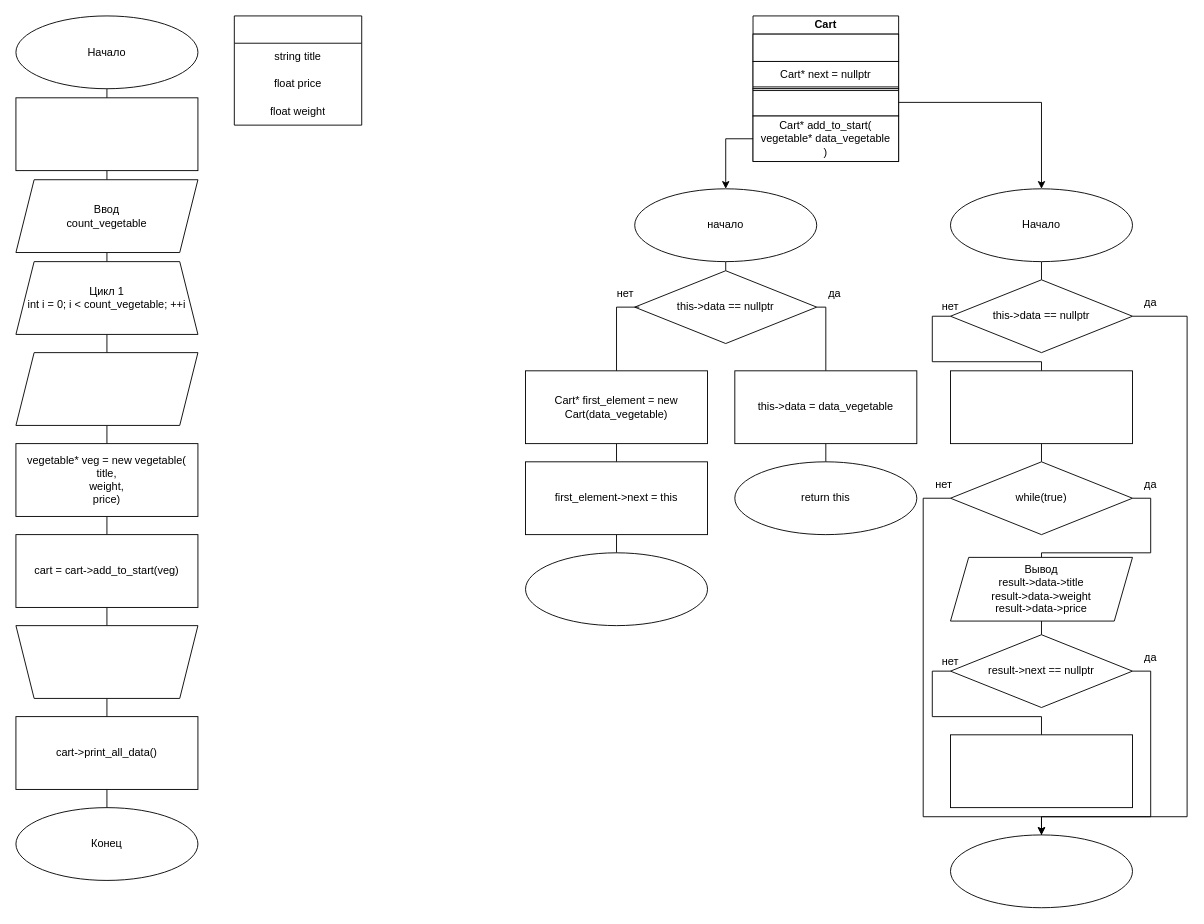
Image size: 1204x924. Some labels were removed from this diagram. Each missing label, with the box of its shape:
Cart* cart = new Cart();: (15, 97, 198, 171)
Cart* result = this: (950, 370, 1132, 444)
result = result->next: (950, 734, 1132, 808)
return: (950, 834, 1132, 908)
return first_element: (525, 552, 708, 626)
vegetable: (233, 15, 362, 125)
vegetable* data = nullptr: (752, 33, 899, 61)
void print_all_data(): (752, 88, 899, 116)
Ввод title weight price: (15, 352, 198, 425)
Цикл 1: (15, 625, 198, 698)
